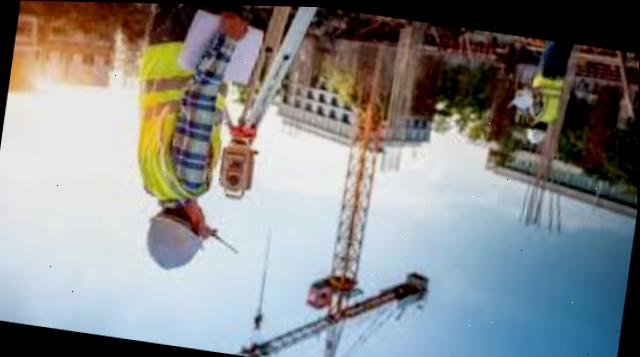helmet: (147, 215, 204, 267), (519, 121, 547, 139)
vest: (126, 38, 224, 198), (524, 65, 565, 119)
